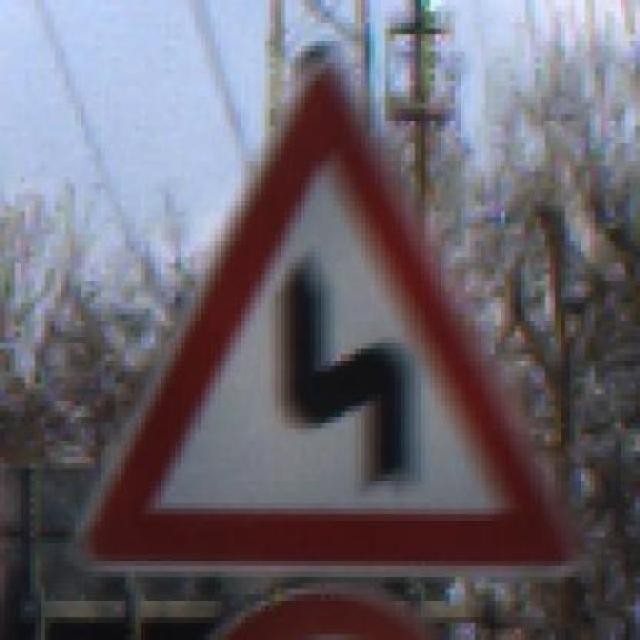Left Zig Zag Traffic: (90, 57, 585, 594)
